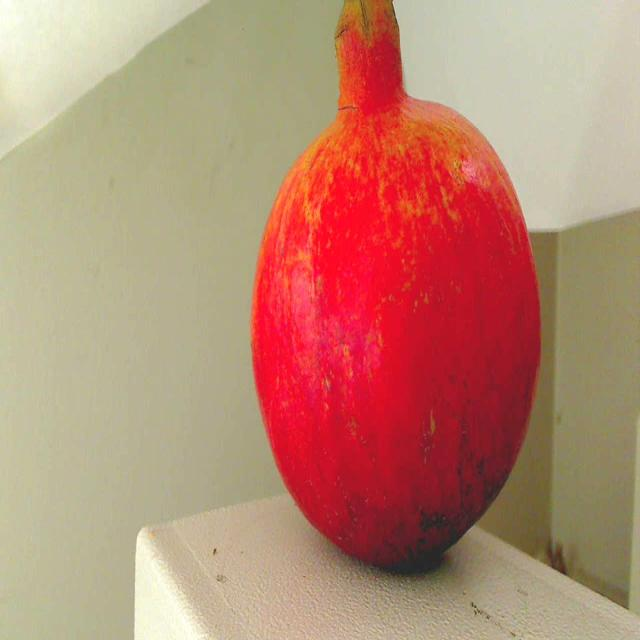pomegranate: (243, 0, 548, 593)
